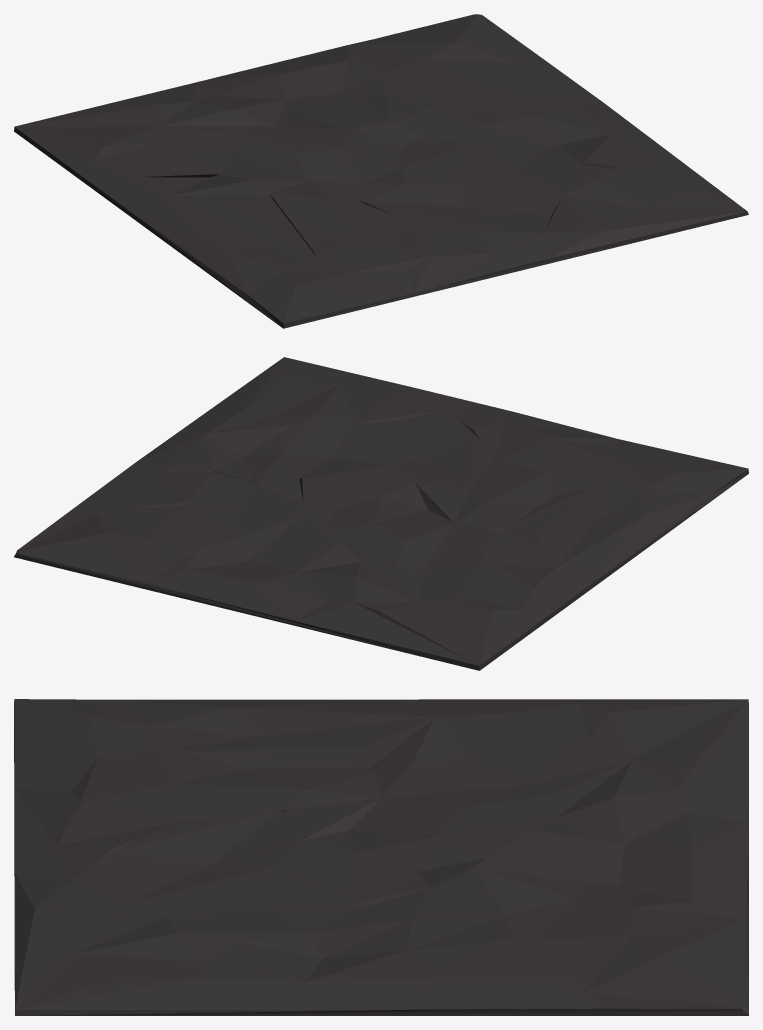
Rendered from Module_Stone_1M.glb.
3 views of the same model, one above another, from view 1: azimuth 30°, elevation 25°; view 2: azimuth 150°, elevation 25°; view 3: azimuth 270°, elevation 25° (orthographic). The views are drawn at different scales.
Parts seen in each view (by area): view 1: Module_Stone_1M; view 2: Module_Stone_1M; view 3: Module_Stone_1M.
Part boxes in pixels (x1,y1,x2,y2): Module_Stone_1M: [14, 14, 748, 328]; Module_Stone_1M: [14, 357, 748, 670]; Module_Stone_1M: [14, 699, 748, 1015].
Size of what is drawn, in the model's own units: 1 by 0.0343 by 1.
1 material, 1 textured.
